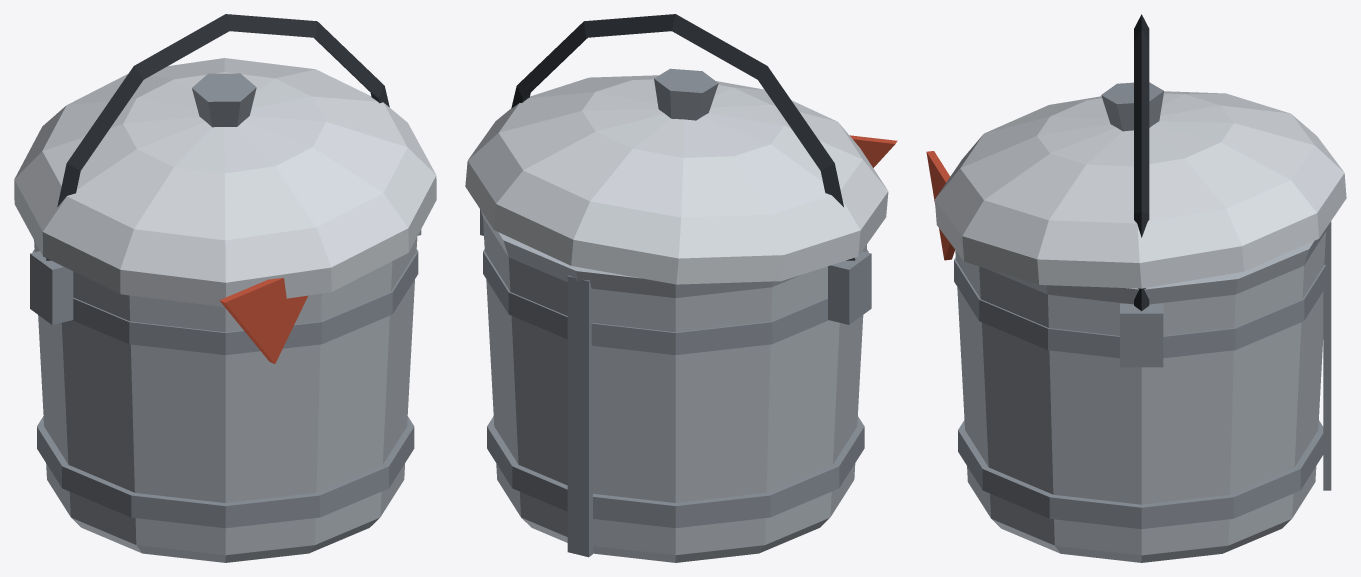
File: lunch_pail.glb
3 views of the same model, side by side, from view 1: azimuth 30°, elevation 25°; view 2: azimuth 150°, elevation 25°; view 3: azimuth 270°, elevation 25° (orthographic). The views are drawn at different scales.
Parts seen in each view (by area): view 1: lunch_pail; view 2: lunch_pail; view 3: lunch_pail.
Boxes of the visible parts, x1,y1,x2,y2 form: lunch_pail: (14,14,436,562); lunch_pail: (465,14,897,562); lunch_pail: (926,14,1346,562).
Bounding box in the file's own units: 0.21 × 0.2602 × 0.2127.
